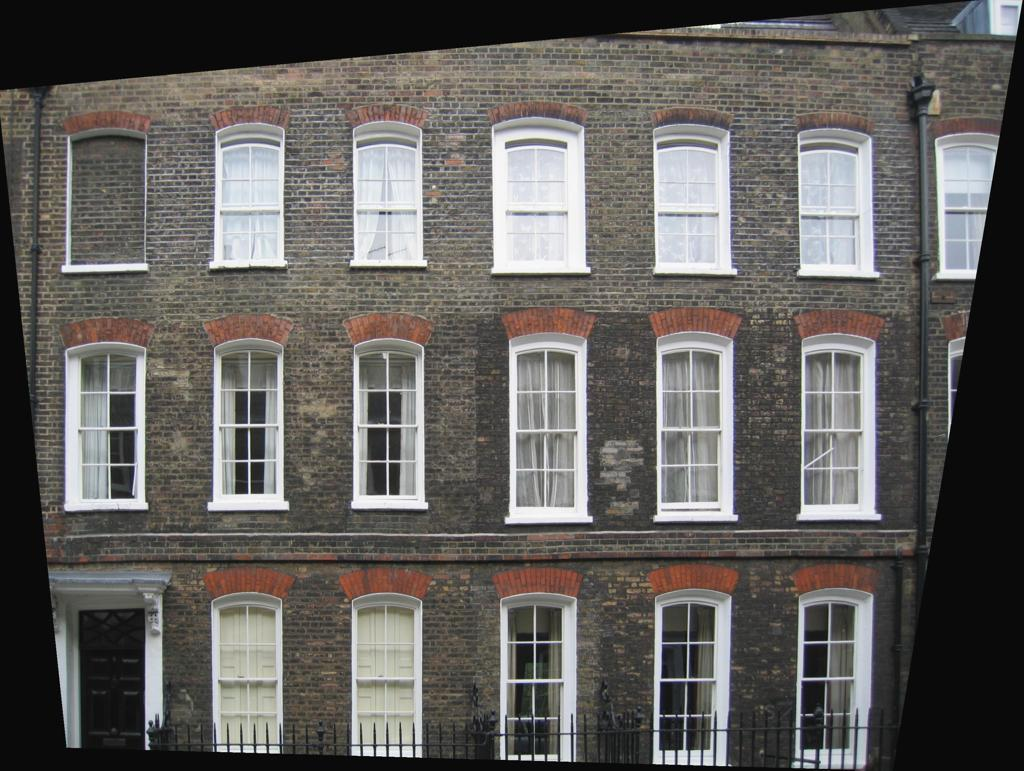window: (508, 332, 588, 519), (656, 331, 736, 518), (491, 116, 587, 269), (800, 333, 877, 514), (654, 589, 731, 766), (799, 587, 875, 765), (501, 592, 577, 766), (65, 342, 146, 502), (351, 592, 423, 766), (212, 592, 284, 765), (654, 124, 735, 271), (353, 339, 424, 503), (215, 337, 285, 501), (798, 127, 875, 273), (938, 134, 1016, 272), (216, 122, 285, 262), (355, 121, 424, 261)
